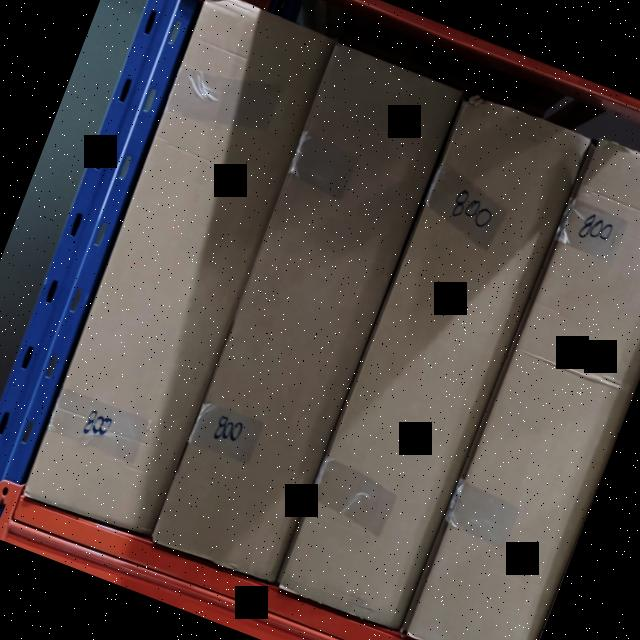box: (19, 0, 339, 541), (152, 41, 464, 580), (282, 92, 586, 624), (410, 143, 640, 640)
